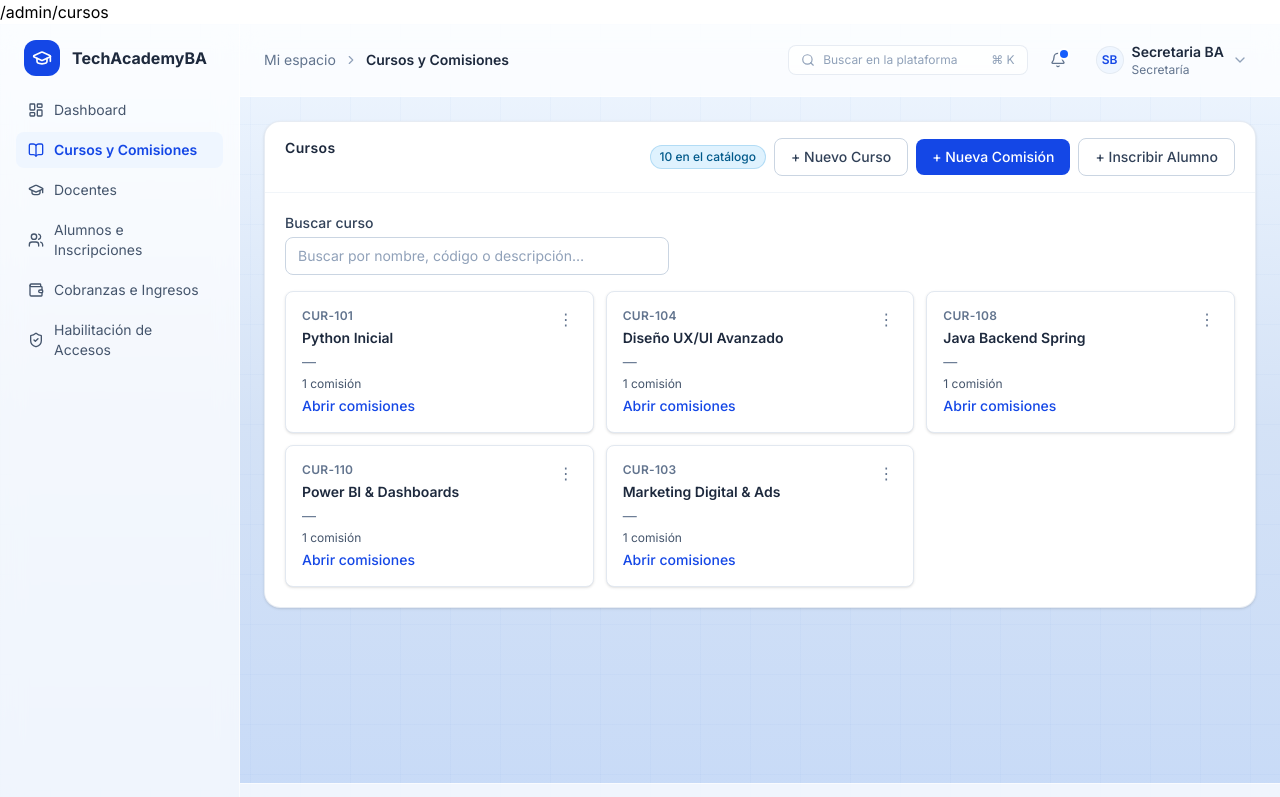
modal de alta › abre con los campos en el orden del spec y los dos botones
Expected: the heading "Cursos" is shown, x1=285 y1=138 x2=336 y2=158
Click the button "+ Nueva Comisión" at (993, 157), box x1=916 y1=139 x2=1070 y2=175
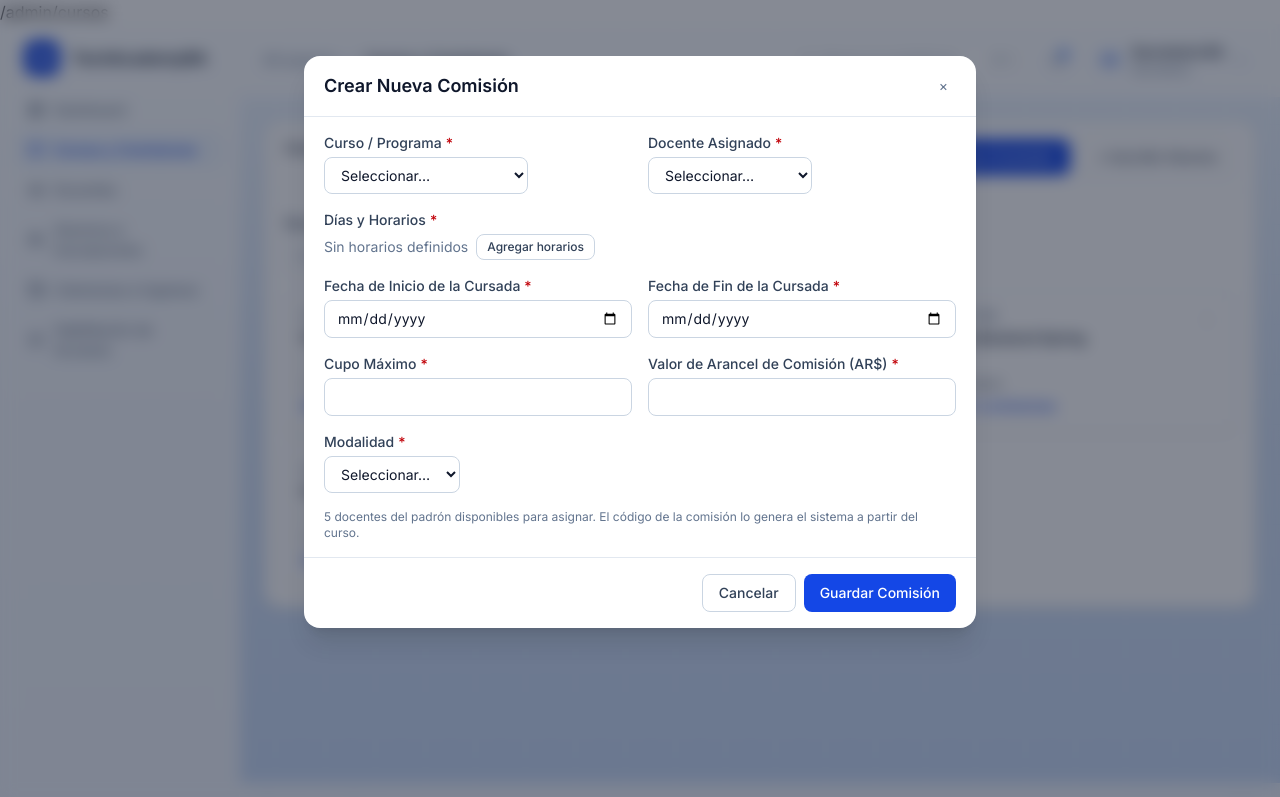
Result: the dialog "Crear Nueva Comisión" is shown at x1=304 y1=56 x2=976 y2=628
Result: the button "Cancelar" is shown at x1=702 y1=574 x2=796 y2=612
Result: the button "Guardar Comisión" is shown at x1=804 y1=574 x2=956 y2=612
